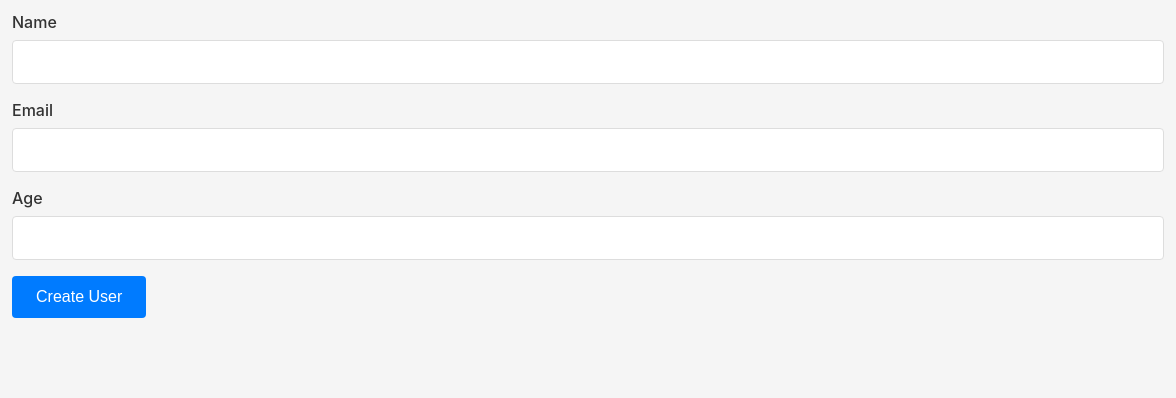
Scenario: UserForm Component › validates required fields
The image size is (1176, 398).
Click the button with test id "submit-button" at (79, 297), box [12,276,146,318]
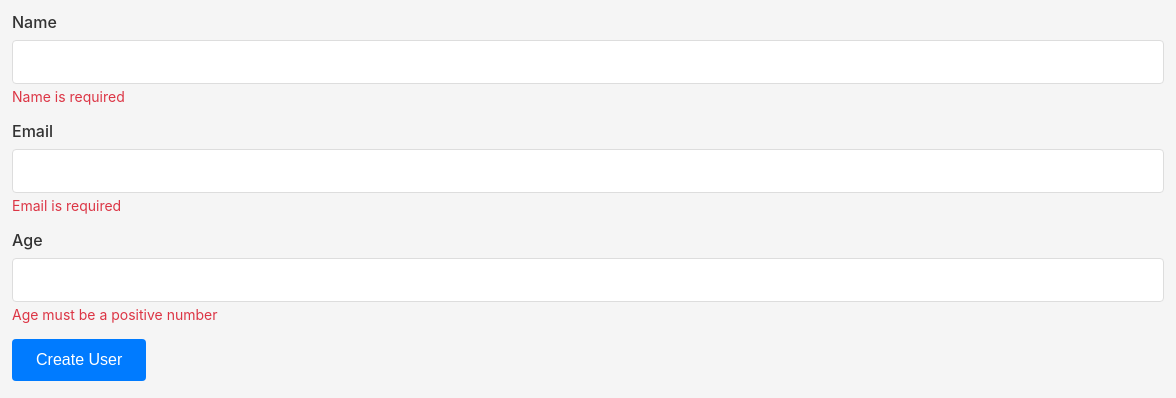
expect the text with test id "name-error" reads "Name is required": met, box [12,88,125,105]
expect the text with test id "email-error" reads "Email is required": met, box [12,197,121,214]
expect the text with test id "age-error" reads "Age must be a positive number": met, box [12,306,218,323]
